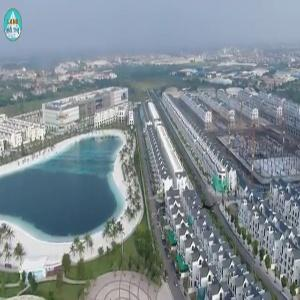drone: (191, 189, 227, 225)
